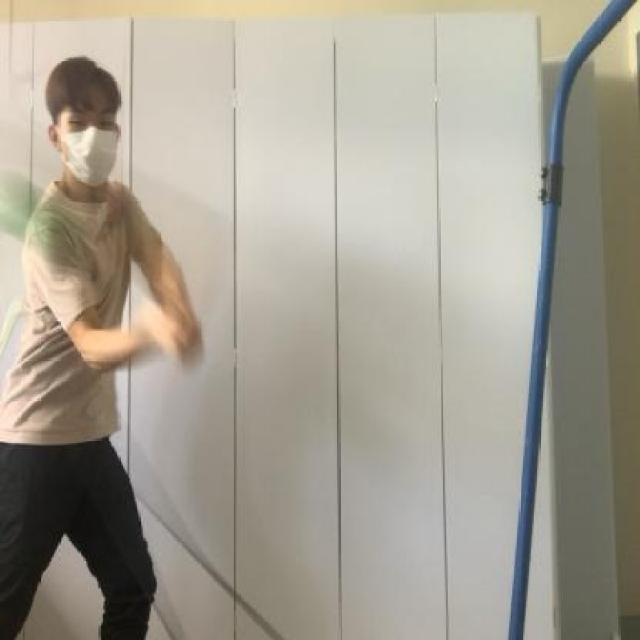baseball: (5, 151, 104, 300)
